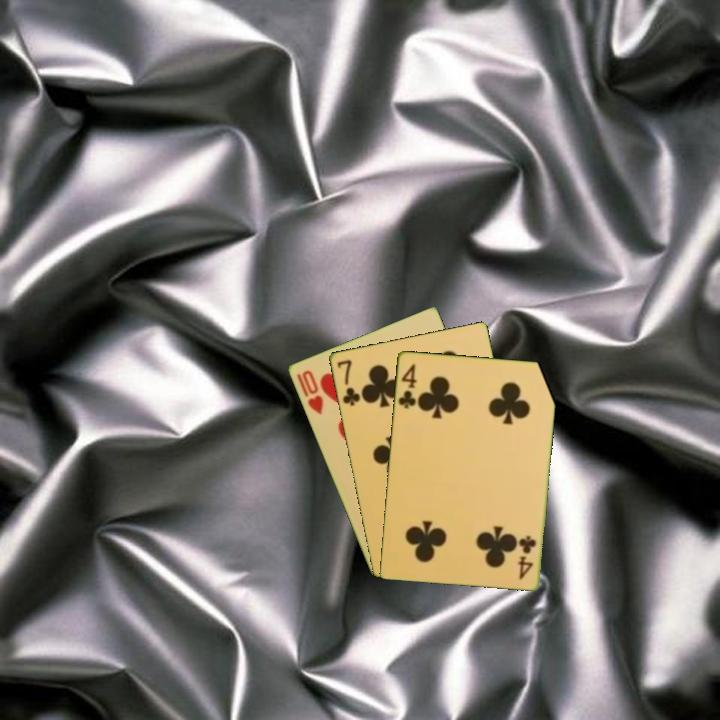10h: (298, 366, 326, 417)
4c: (394, 360, 419, 411), (515, 532, 539, 582)
7c: (333, 356, 363, 408)
